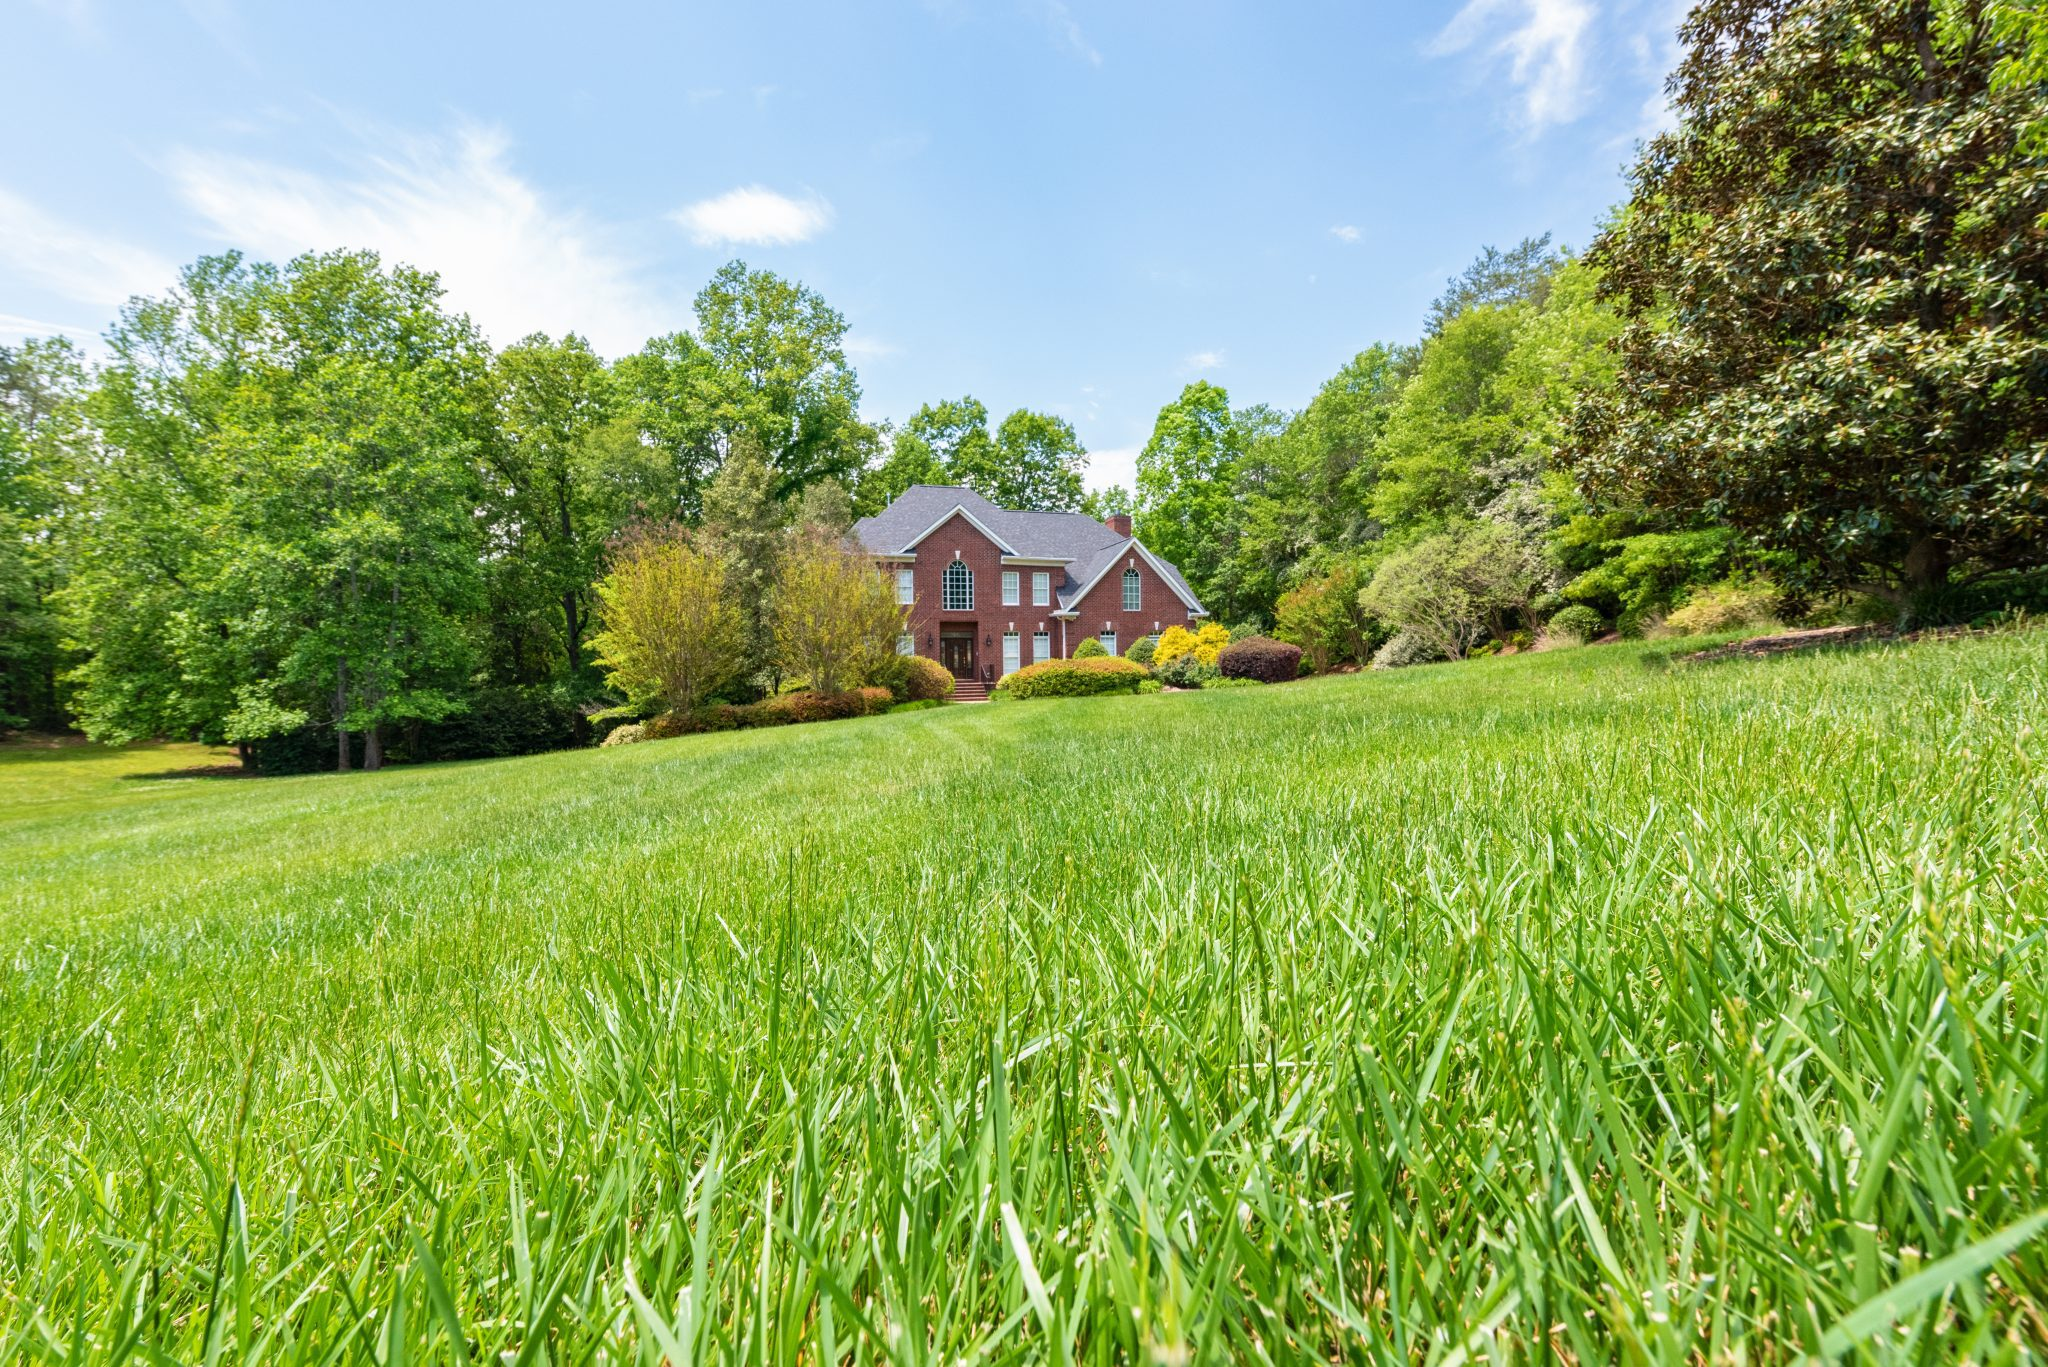grass: (2, 699, 2048, 1367)
